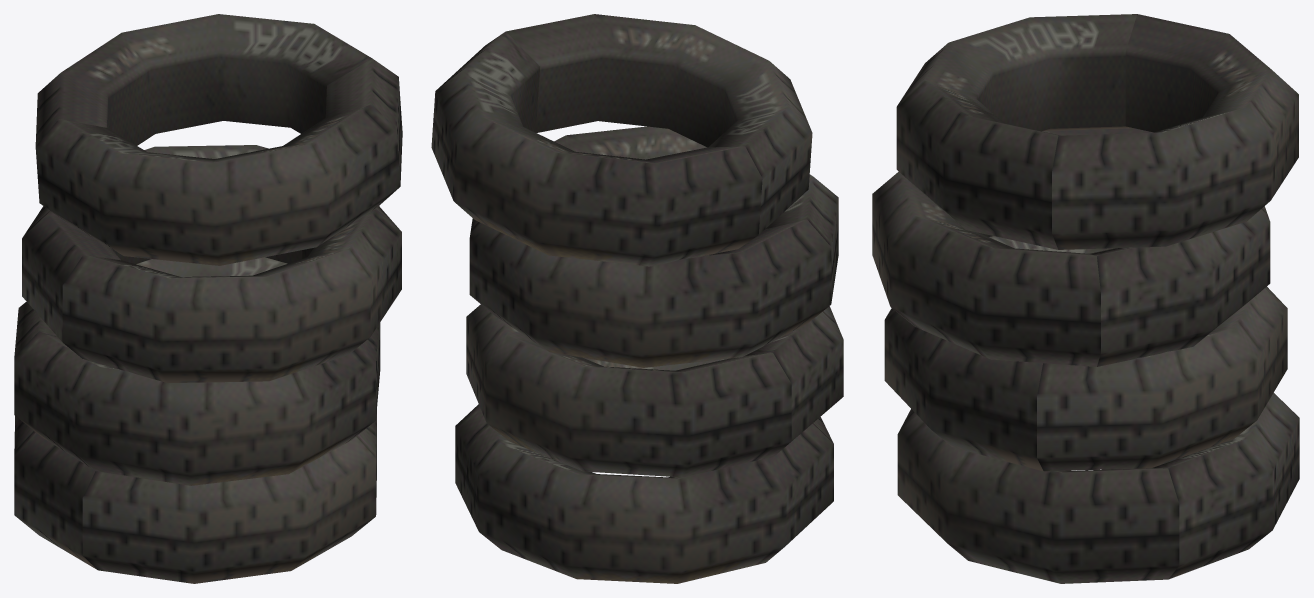
File: tire_stack.obj
3 views of the same model, side by side, from view 1: azimuth 30°, elevation 25°; view 2: azimuth 150°, elevation 25°; view 3: azimuth 270°, elevation 25° (orthographic). The views are drawn at different scales.
Parts seen in each view (by area): view 1: tire_stack; view 2: tire_stack; view 3: tire_stack.
Boxes of the visible parts, left/top/right/bottom form: tire_stack: left=14, top=14, right=402, bottom=583; tire_stack: left=431, top=14, right=843, bottom=583; tire_stack: left=872, top=14, right=1299, bottom=583.
Bounding box in the file's own units: 0.6994 × 0.8259 × 0.6985.
Materials: 1 (1 with a texture image).
